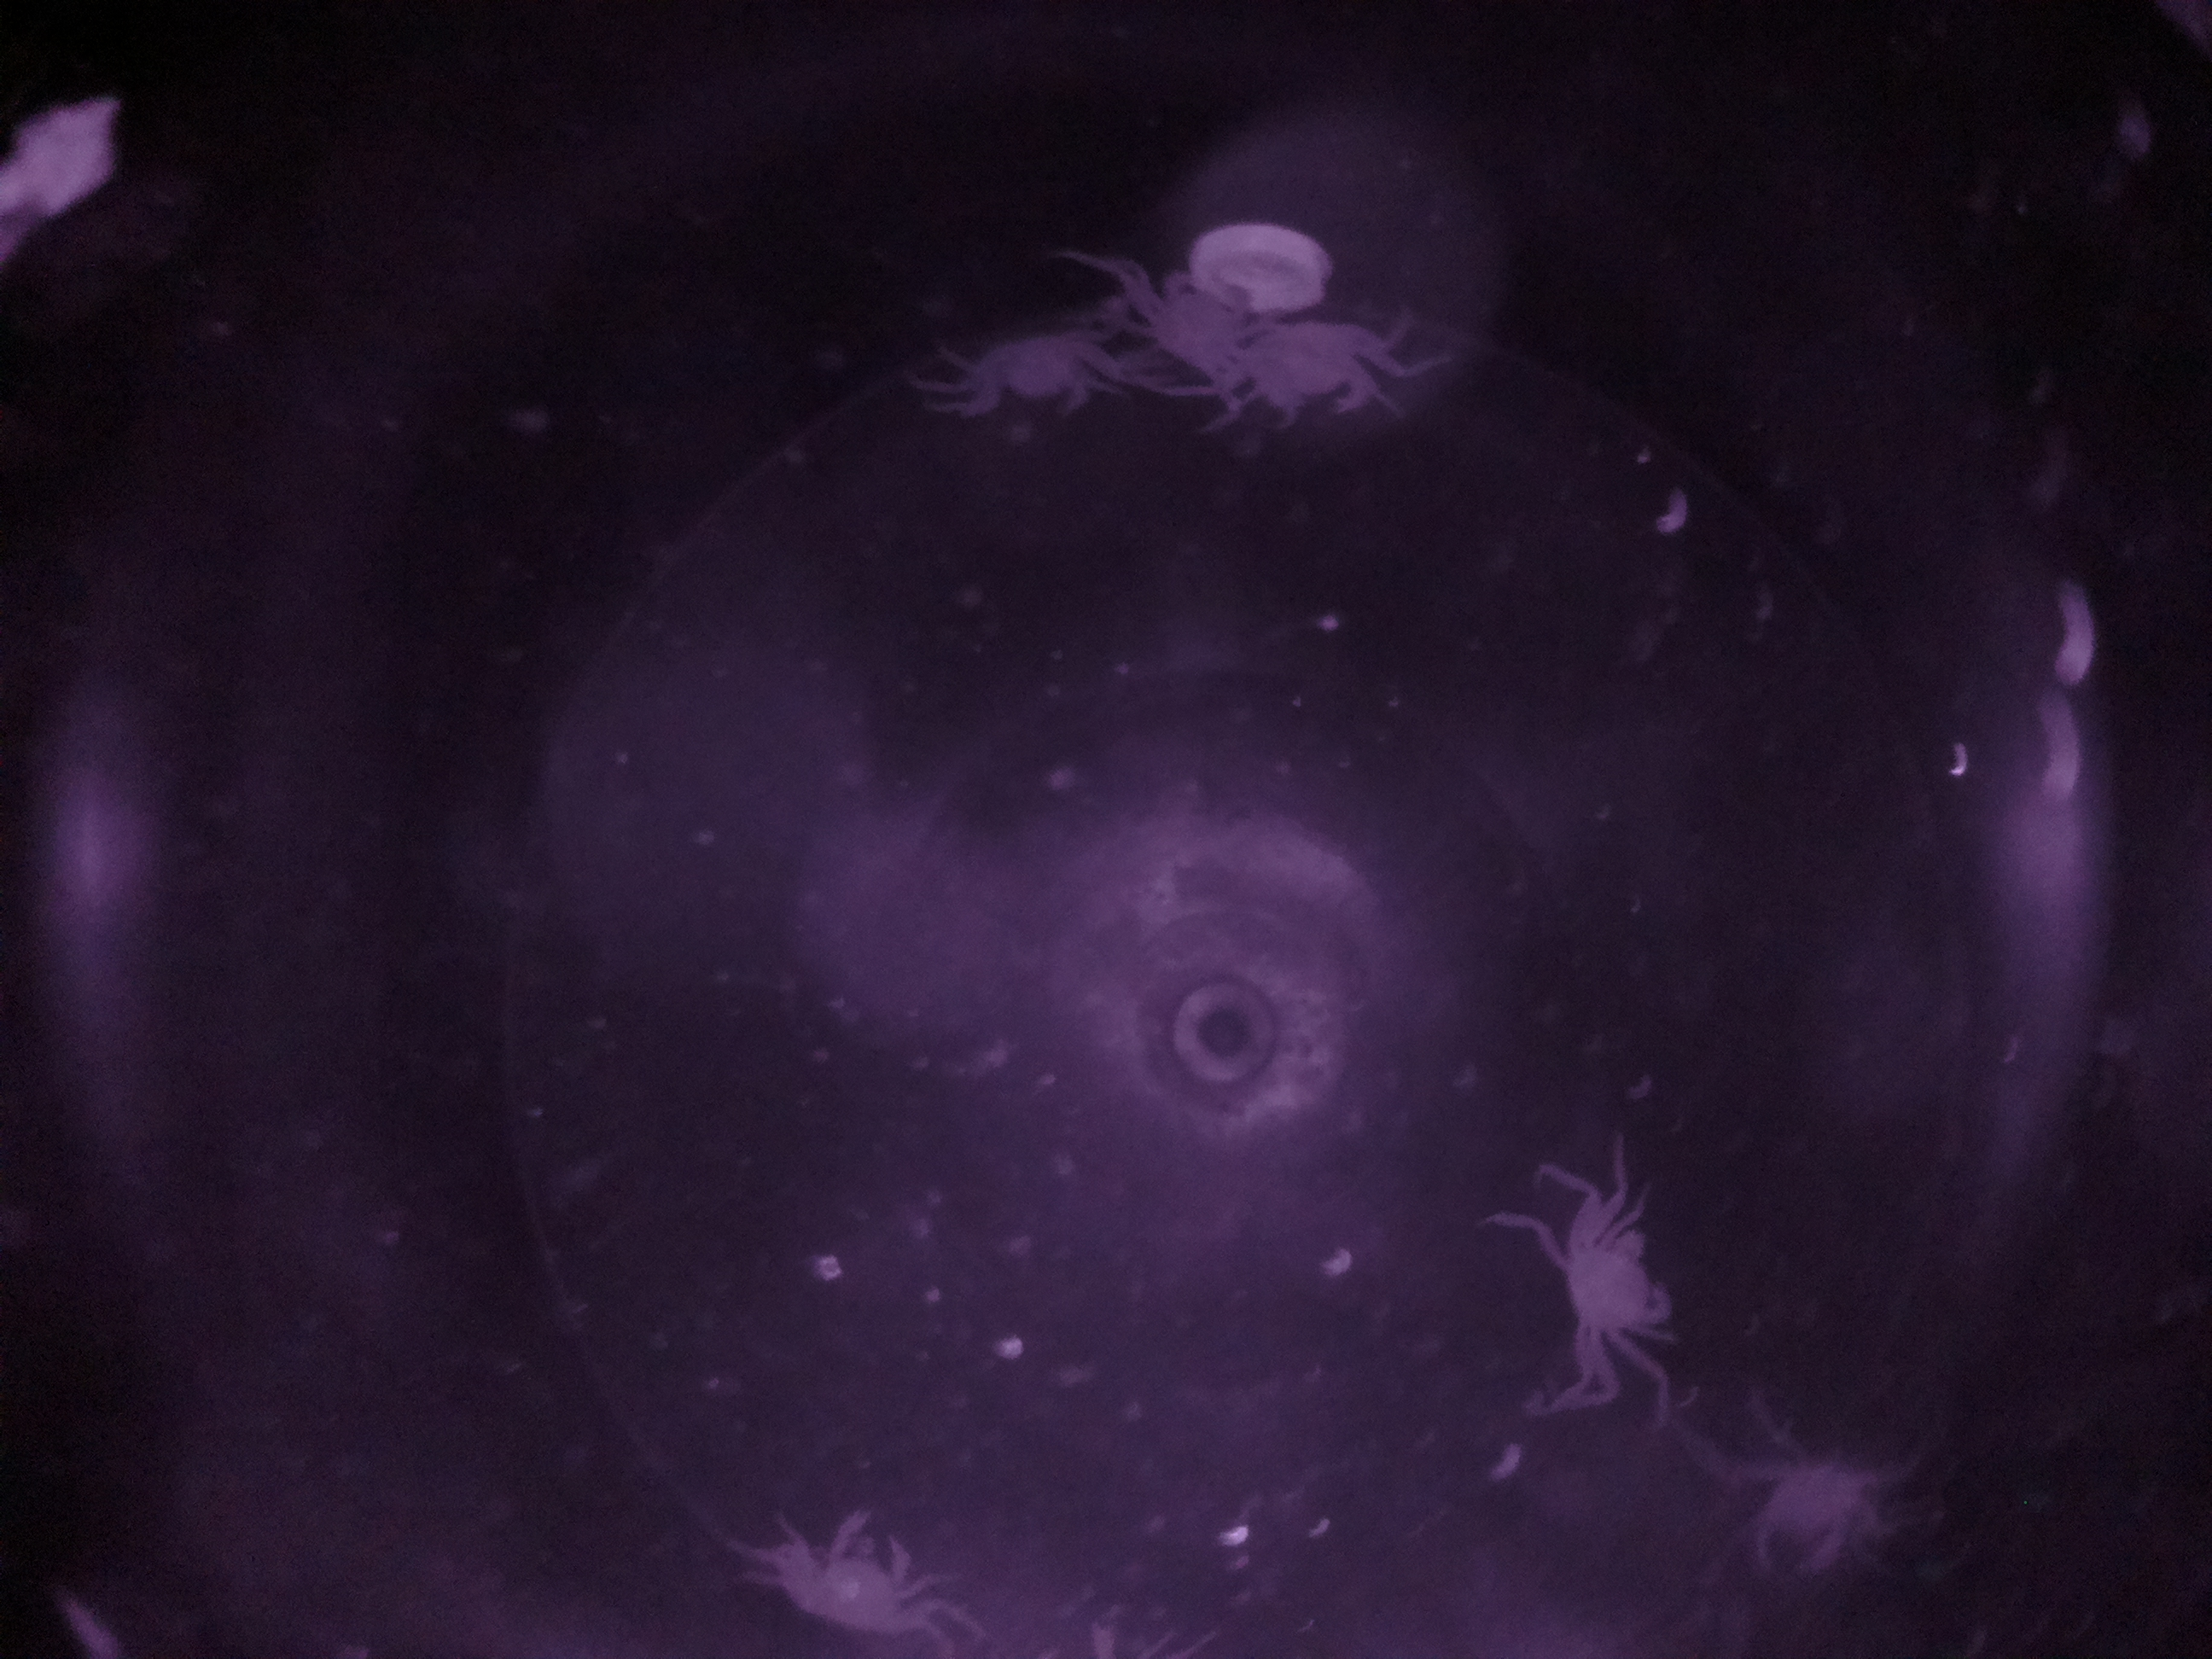Crab: (1536, 1194, 1686, 1399), (918, 295, 1129, 432), (773, 1500, 954, 1652)
